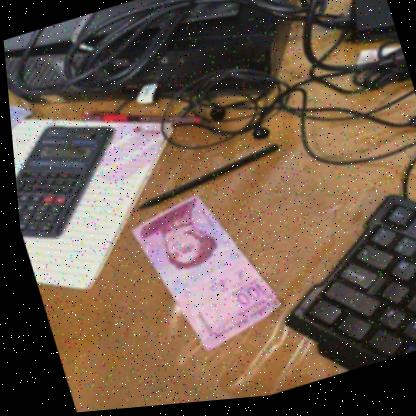one_hundred-front-vef: (120, 180, 284, 367)
